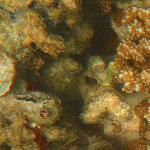dead: (11, 6, 136, 138)
